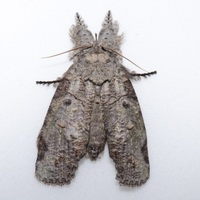insect: (35, 11, 149, 186)
